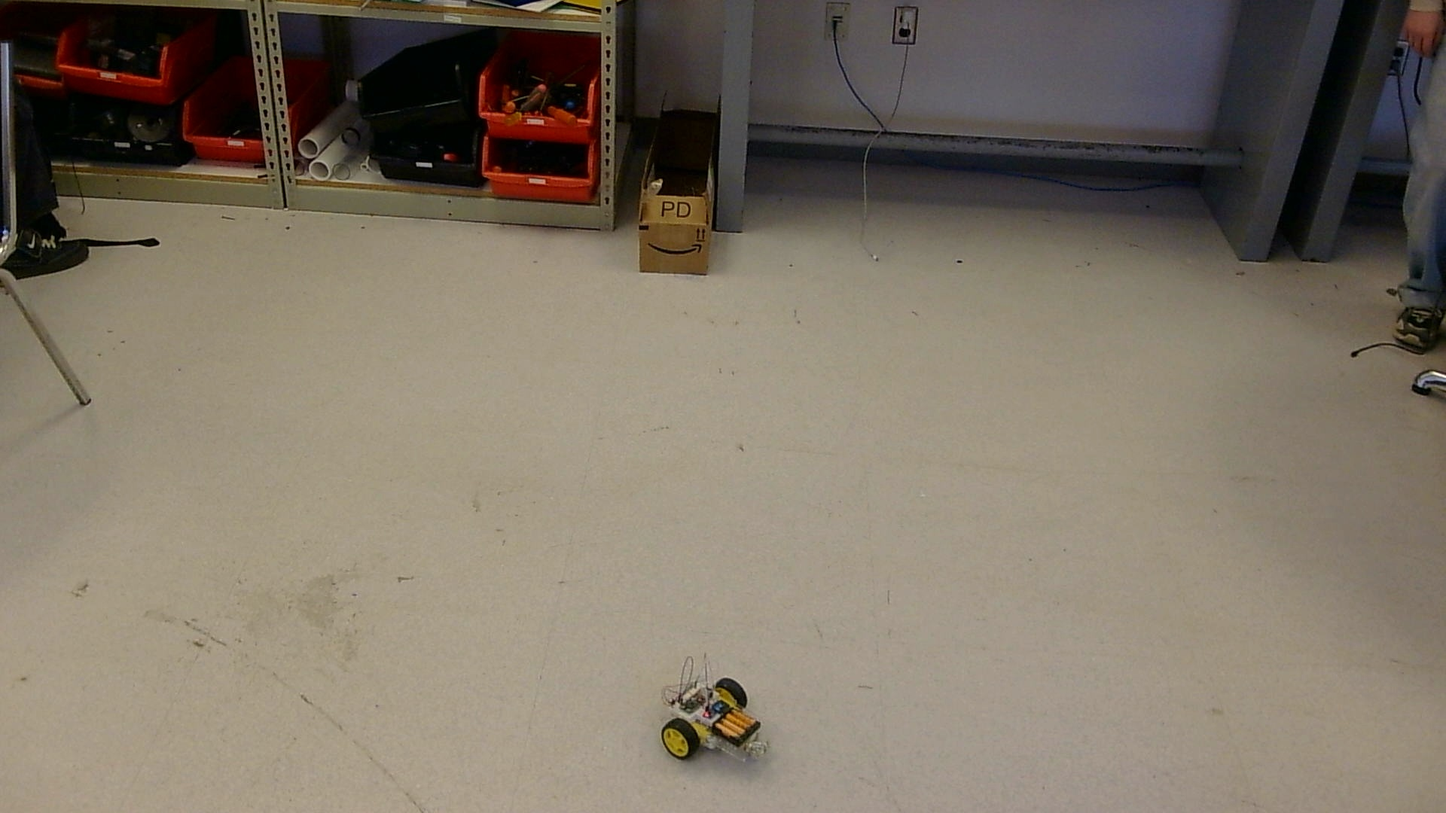robot: (660, 657, 768, 760)
